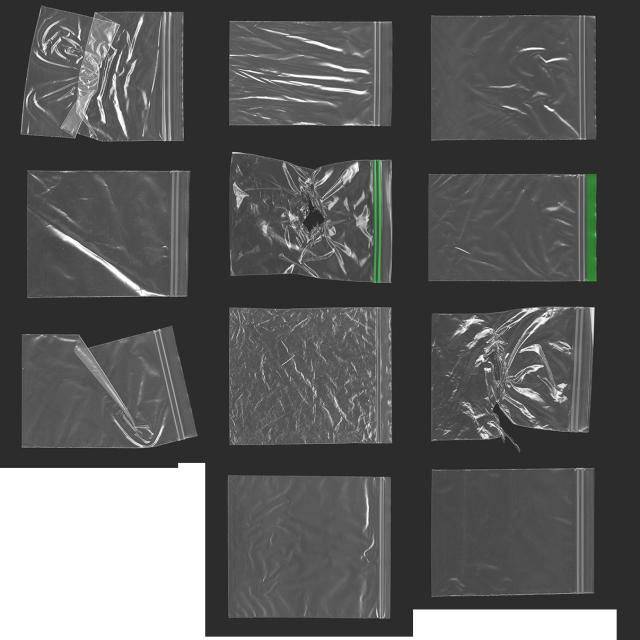Single-layer Plastic: (228, 476, 390, 618), (230, 308, 391, 445), (21, 7, 184, 141), (431, 308, 594, 440), (230, 153, 392, 282), (22, 327, 196, 447), (431, 469, 594, 597), (431, 16, 596, 140), (28, 171, 189, 297), (429, 174, 596, 281), (229, 22, 392, 126)
